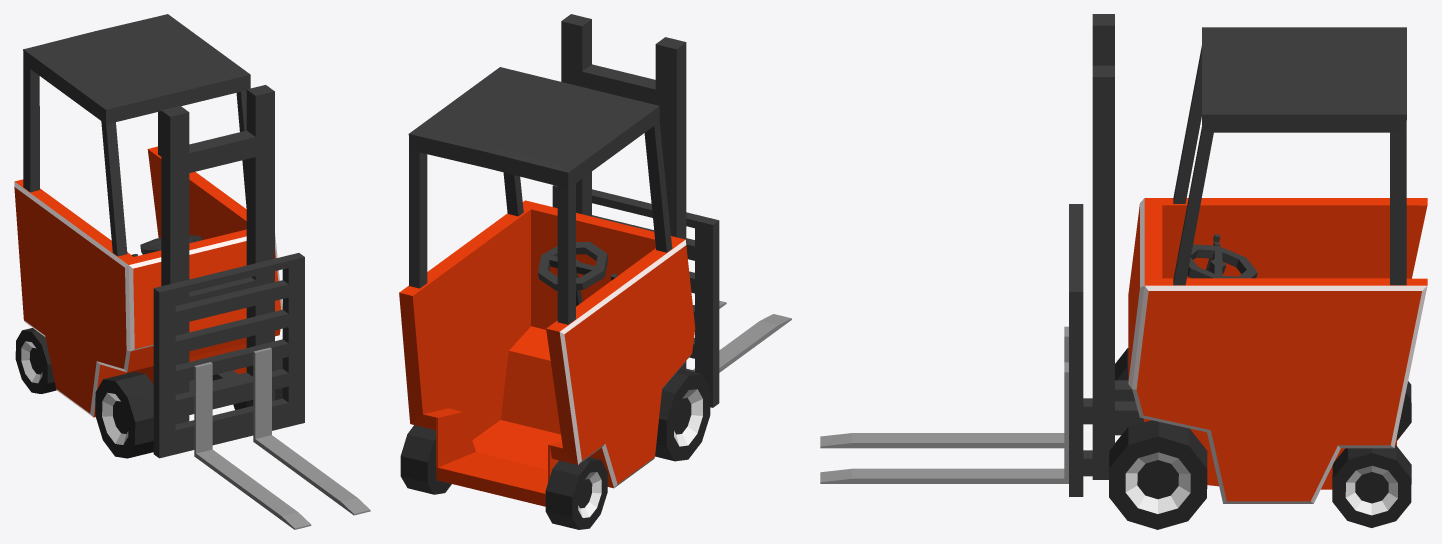
The model's file is forklift.glb.
The picture shows the model from 3 angles, left to right: view 1: azimuth 30°, elevation 25°; view 2: azimuth 150°, elevation 25°; view 3: azimuth 270°, elevation 25°; orthographic projection. The views are drawn at different scales.
Parts seen in each view (by area): view 1: Body, Fork, Mast, WheelFR, WheelRR; view 2: Body, Mast, Fork, WheelFR, WheelRR, WheelRL, Steer; view 3: Body, Fork, Mast, WheelFL, WheelRL, Steer.
Boxes of the visible parts, <box> form: Body: <box>14,14,282,417</box>; Fork: <box>153,253,370,529</box>; Mast: <box>161,85,274,424</box>; WheelFR: <box>95,372,153,458</box>; WheelRR: <box>15,328,56,393</box>; Body: <box>399,67,695,506</box>; Mast: <box>561,14,686,370</box>; Fork: <box>552,185,791,407</box>; WheelFR: <box>655,369,710,461</box>; WheelRR: <box>545,457,607,529</box>; WheelRL: <box>400,425,451,494</box>; Steer: <box>538,241,608,306</box>; Body: <box>1115,27,1427,503</box>; Fork: <box>820,204,1092,496</box>; Mast: <box>1092,14,1114,479</box>; WheelFL: <box>1109,420,1207,529</box>; WheelRL: <box>1332,445,1411,527</box>; Steer: <box>1187,244,1257,278</box>.
Bounding box in the file's own units: 1.14 × 2.38 × 3.01.
